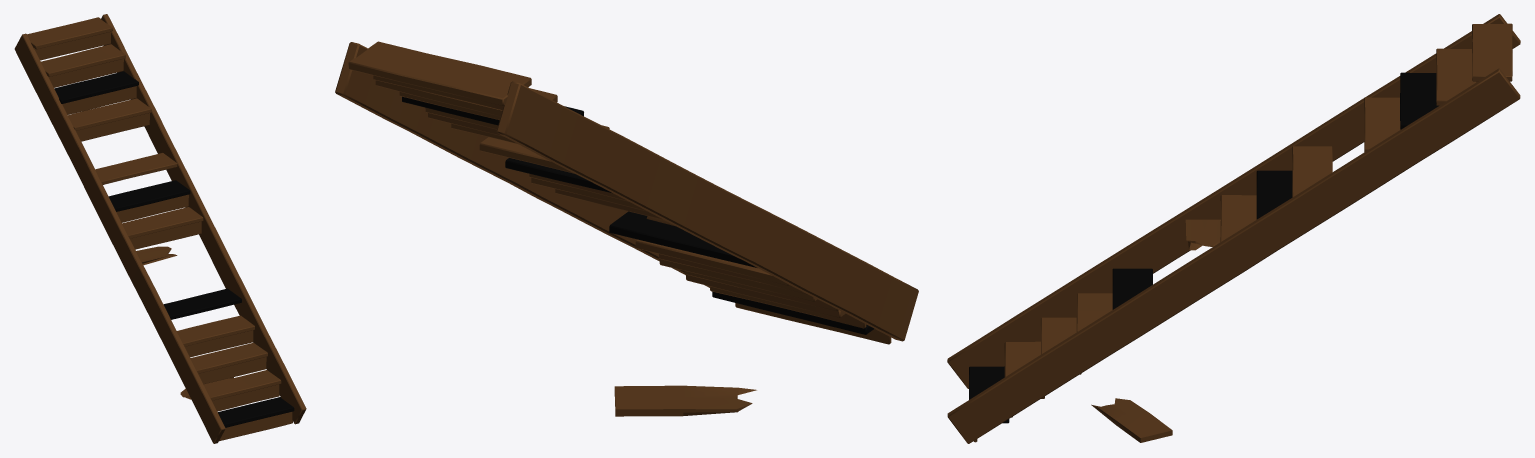
Rendered from treppe_holz_kaputt.glb.
3 views of the same model, side by side, from view 1: azimuth 30°, elevation 25°; view 2: azimuth 150°, elevation 25°; view 3: azimuth 270°, elevation 25° (orthographic). The views are drawn at different scales.
Visible parts, largest first — view 1: treppe_holz_kaputt; view 2: treppe_holz_kaputt; view 3: treppe_holz_kaputt.
Part boxes in pixels (bbox=[...]): treppe_holz_kaputt: bbox=[14, 14, 306, 443]; treppe_holz_kaputt: bbox=[335, 41, 918, 416]; treppe_holz_kaputt: bbox=[947, 14, 1520, 443].
Bounding box in the file's own units: 1.02 × 3.06 × 4.25.
